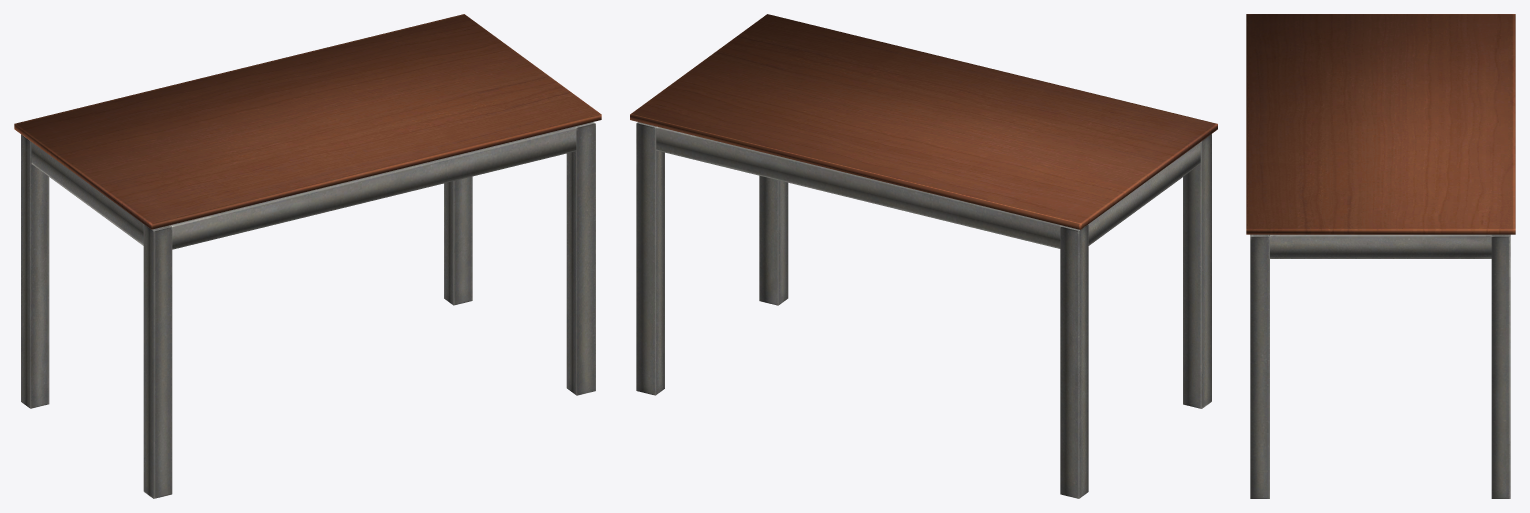
The model's file is table_scanroom_large.dae.
The picture shows the model from 3 angles, left to right: view 1: azimuth 30°, elevation 25°; view 2: azimuth 150°, elevation 25°; view 3: azimuth 270°, elevation 25°; orthographic projection. The views are drawn at different scales.
Parts seen in each view (by area): view 1: table_scanroom_large; view 2: table_scanroom_large; view 3: table_scanroom_large.
Boxes of the visible parts, x1=… form: table_scanroom_large: x1=14, y1=14, x2=601, y2=498; table_scanroom_large: x1=630, y1=14, x2=1217, y2=498; table_scanroom_large: x1=1246, y1=14, x2=1515, y2=498.
Size of the model in its own units: 200 by 118 by 106.
